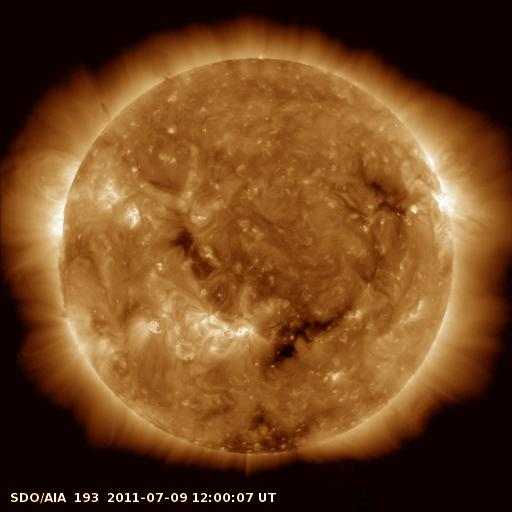coronal_hole: (213, 408, 327, 461), (265, 306, 346, 367)
